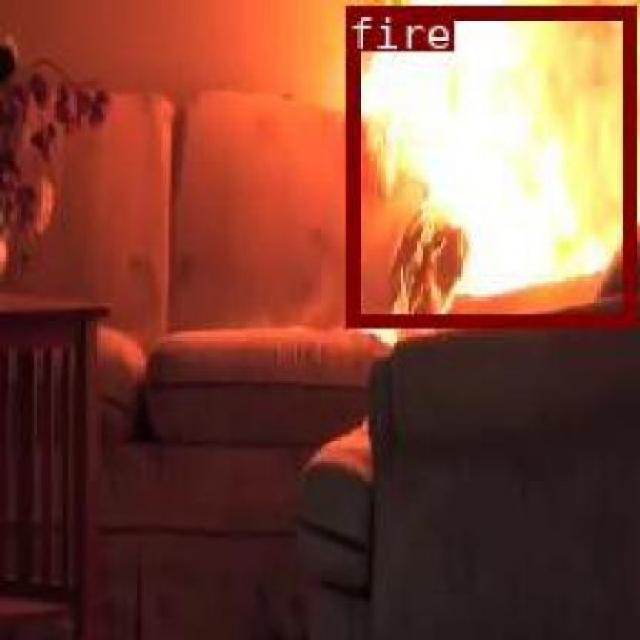Fire: (343, 2, 634, 324)
